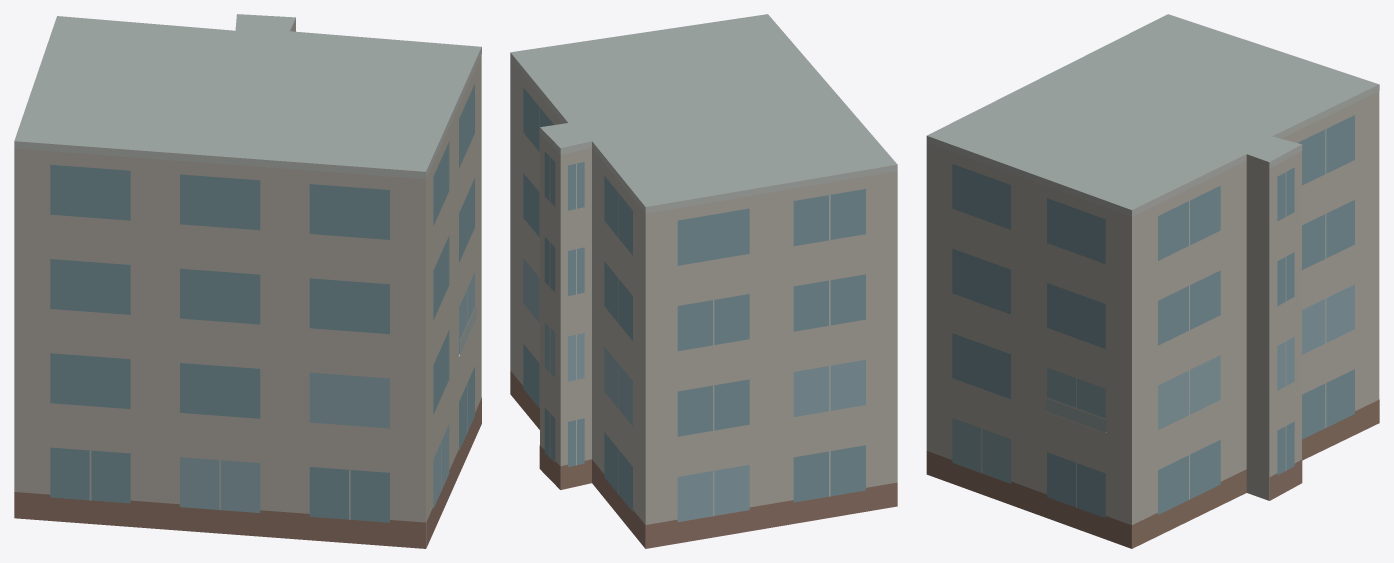
Rendered from survey-upis-32675094.glb.
The picture shows the model from 3 angles, left to right: view 1: azimuth 30°, elevation 25°; view 2: azimuth 150°, elevation 25°; view 3: azimuth 270°, elevation 25°; orthographic projection. The views are drawn at different scales.
Parts seen in each view (by area): view 1: survey-upis-32675094.tmp; view 2: survey-upis-32675094.tmp; view 3: survey-upis-32675094.tmp.
Part boxes in pixels (left/top/right/bottom): survey-upis-32675094.tmp: left=14, top=14, right=481, bottom=548; survey-upis-32675094.tmp: left=510, top=14, right=897, bottom=548; survey-upis-32675094.tmp: left=926, top=14, right=1379, bottom=548.
Bounding box in the file's own units: 15.53 × 12.5 × 15.15.
